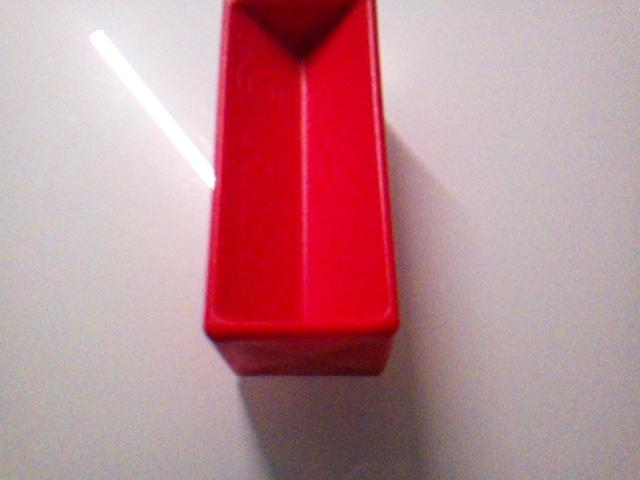red: (203, 1, 402, 378)
